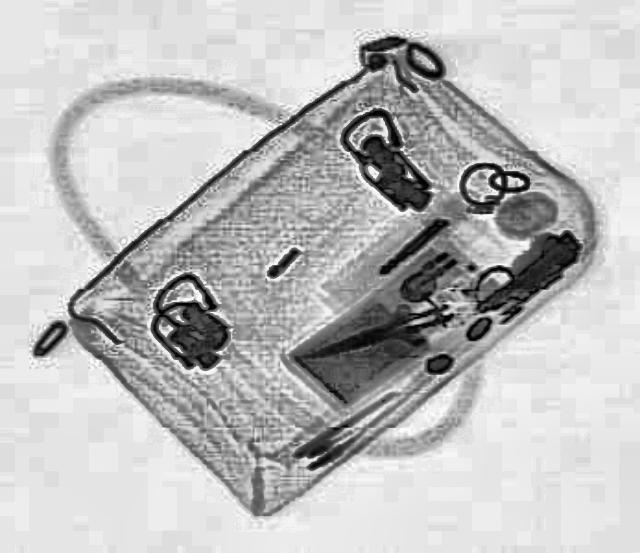Knife: (302, 298, 454, 364)
